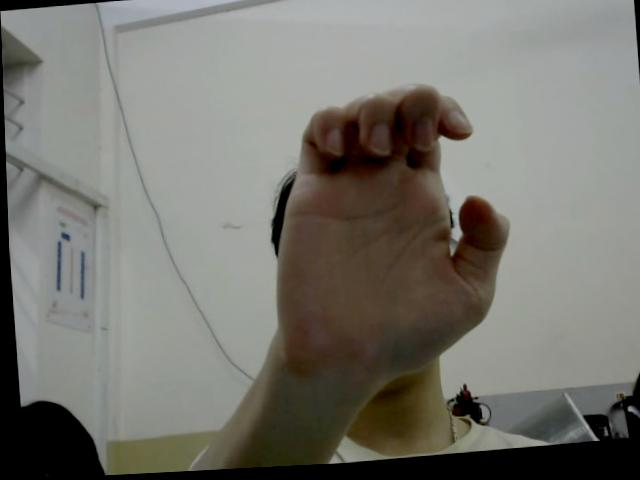E: (259, 78, 515, 379)
